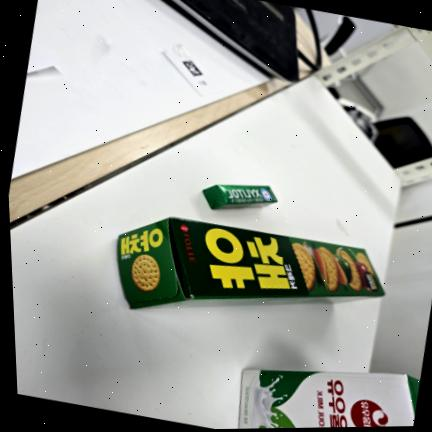cracker_vege: (117, 217, 384, 308)
gum_green: (203, 185, 277, 209)
milk_green: (239, 369, 419, 429)
